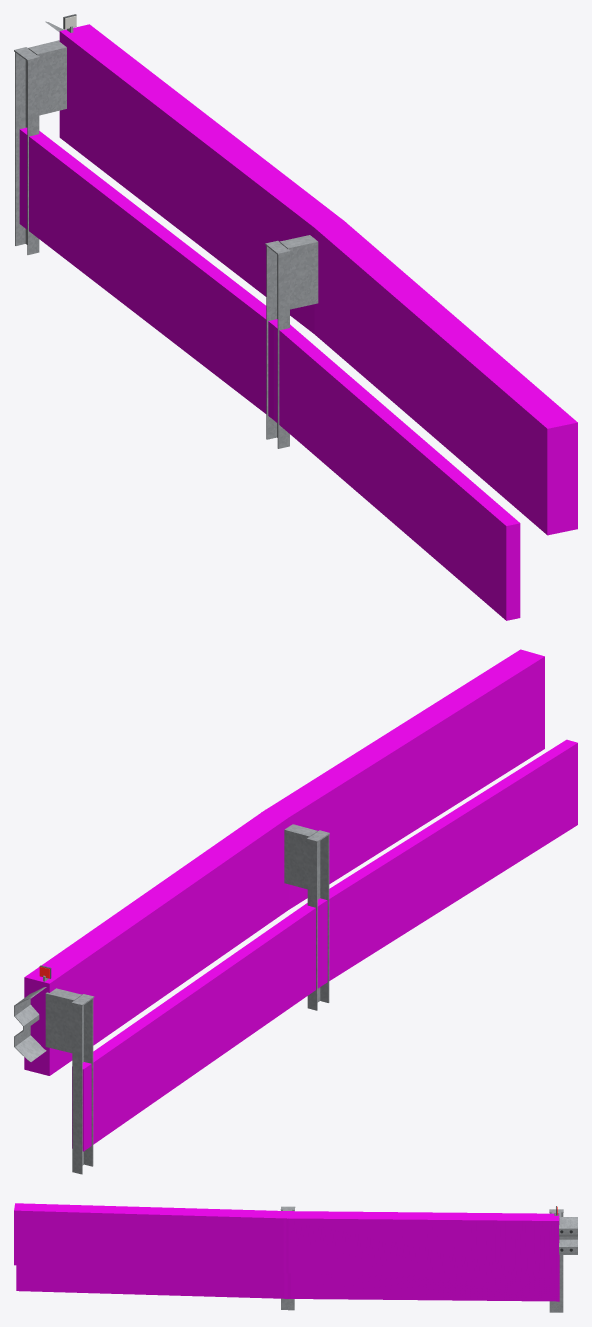
The model's file is EN_Barrier_WBeam_4m_R44_Convex.fbx.
3 views of the same model, one above another, from view 1: azimuth 30°, elevation 25°; view 2: azimuth 150°, elevation 25°; view 3: azimuth 270°, elevation 25° (orthographic). The views are drawn at different scales.
Parts seen in each view (by area): view 1: COL_Barrier, EN_Barrier_WBeam_4m_R44_Convex_Mesh; view 2: COL_Barrier, EN_Barrier_WBeam_4m_R44_Convex_Mesh; view 3: COL_Barrier, EN_Barrier_WBeam_4m_R44_Convex_Mesh.
Part boxes in pixels (box(x1,y1,x2,y2)): COL_Barrier: box(19, 24, 577, 620); EN_Barrier_WBeam_4m_R44_Convex_Mesh: box(14, 14, 318, 448); COL_Barrier: box(24, 649, 577, 1151); EN_Barrier_WBeam_4m_R44_Convex_Mesh: box(14, 824, 329, 1174); COL_Barrier: box(14, 1203, 559, 1301); EN_Barrier_WBeam_4m_R44_Convex_Mesh: box(280, 1206, 577, 1312).
Size of the model in its own units: 0.4889 by 0.94 by 4.2.
